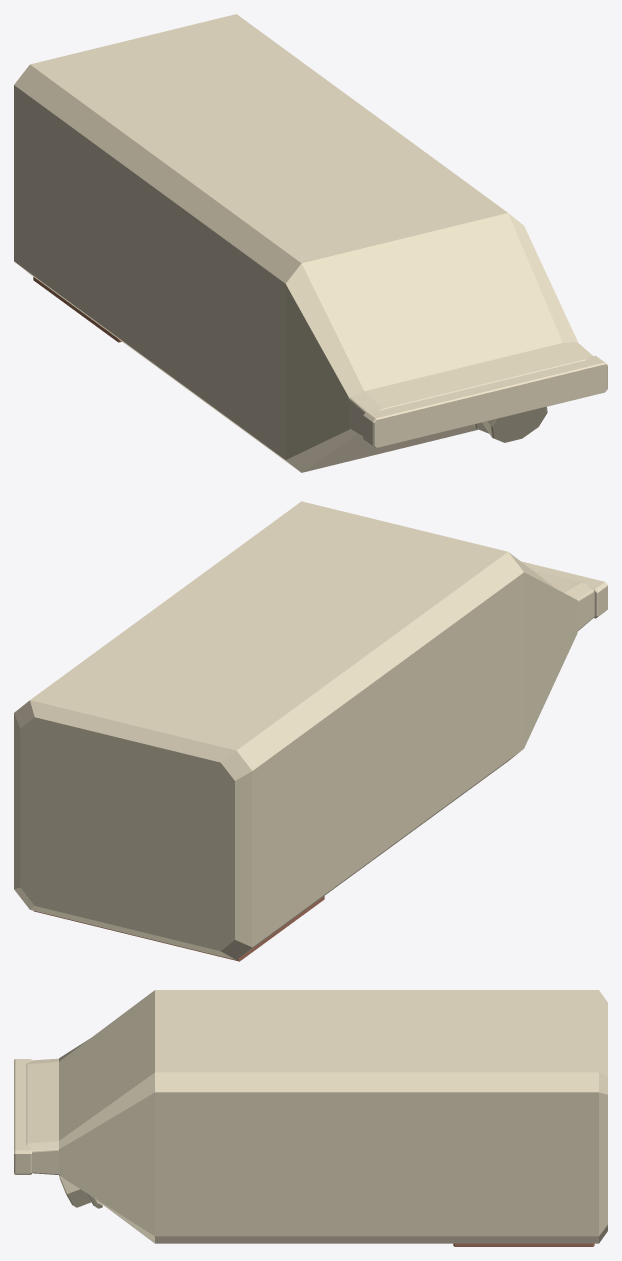
The model's file is almond_milk.glb.
3 renders of one model, top to bottom at view 1: azimuth 30°, elevation 25°; view 2: azimuth 150°, elevation 25°; view 3: azimuth 270°, elevation 25°, orthographic. The views are drawn at different scales.
Visible parts, largest first — view 1: almond_milk; view 2: almond_milk; view 3: almond_milk.
Boxes of the visible parts, left/top/right/bottom form: almond_milk: left=14, top=14, right=607, bottom=472; almond_milk: left=14, top=501, right=607, bottom=961; almond_milk: left=14, top=990, right=607, bottom=1246.
Size of the model in its own units: 0.075 by 0.0655 by 0.198.
